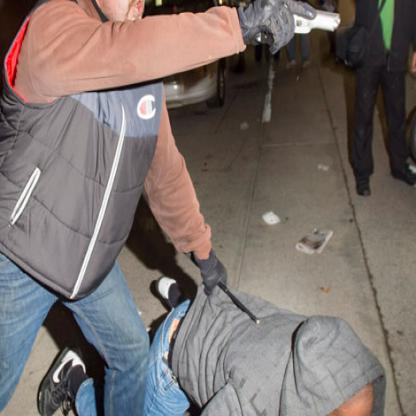gun: (245, 0, 349, 59)
